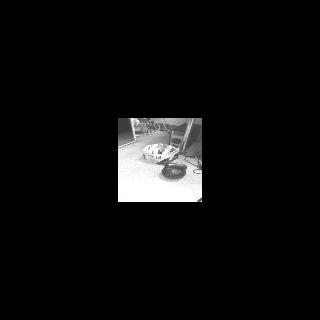kettlebell: (160, 161, 186, 179)
